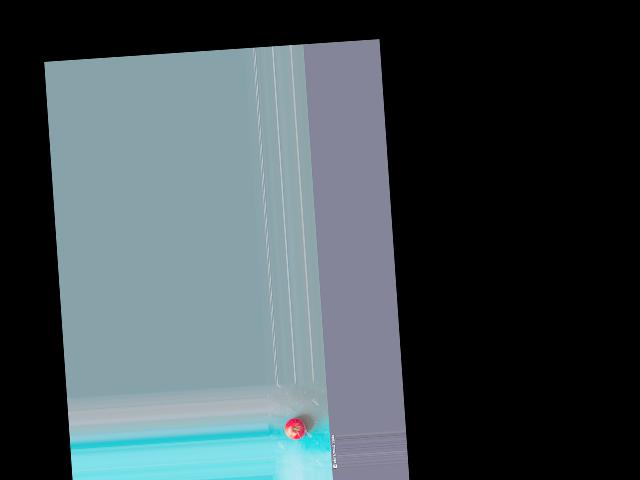tomato: (284, 417, 307, 440)
